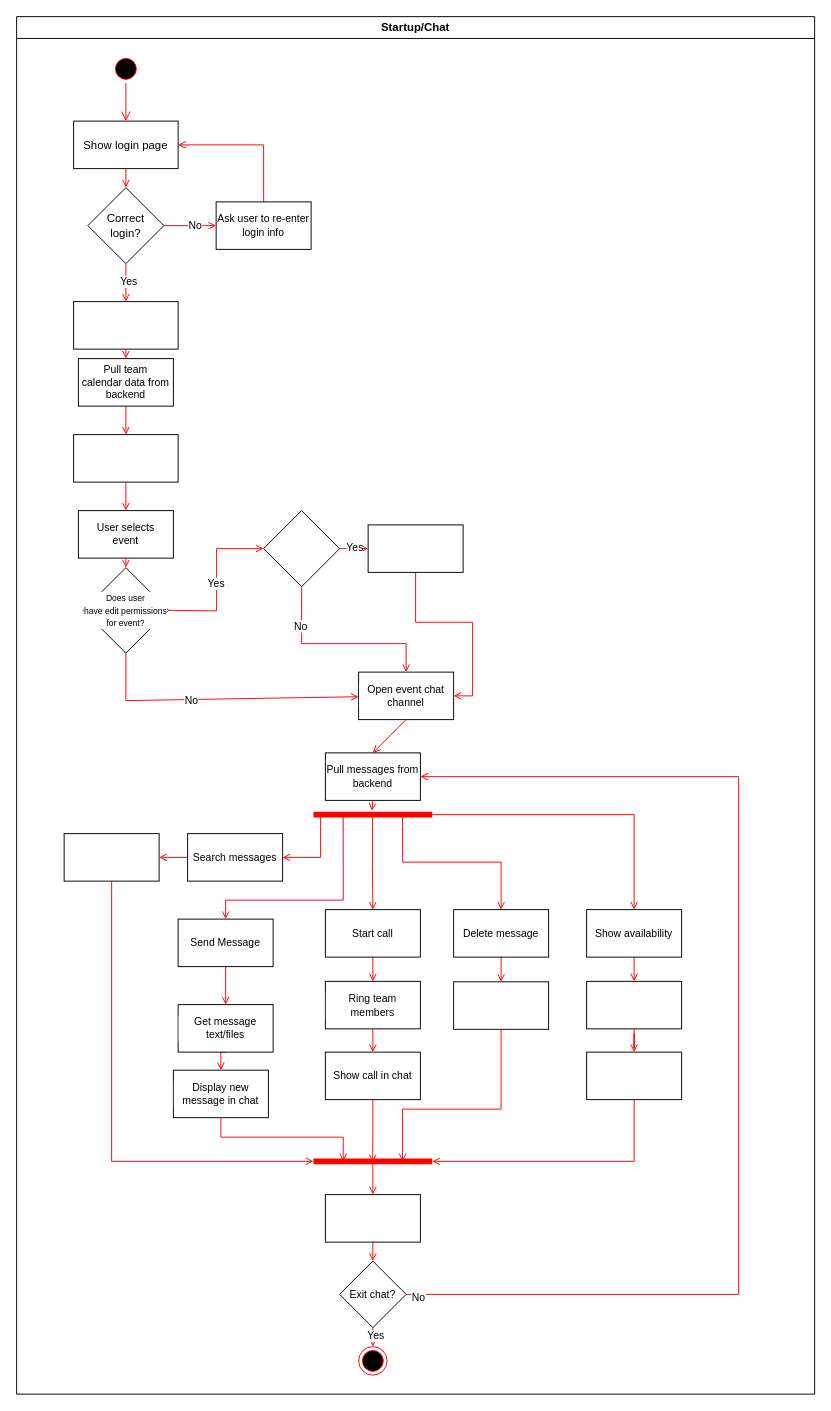
This 831x1411 diagram has some shape labels left out. Each missing label, with the centre of its shape:
"Edit event details" belongs at point 415,548.
"Edit event?" belongs at point 301,548.
"Perform database query for message" belongs at point 111,857.
"Pull team members' availability data from database" belongs at point 634,1004.
"Remove selected message from chat" belongs at point 501,1005.
"Select team" belongs at point 125,325.
"Show selected team's calendar" belongs at point 125,458.
"Suggest optimal meeting times" belongs at point 634,1075.
"Update database" belongs at point 372,1218.
